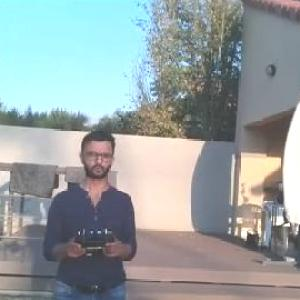follow: (40, 120, 144, 299)
